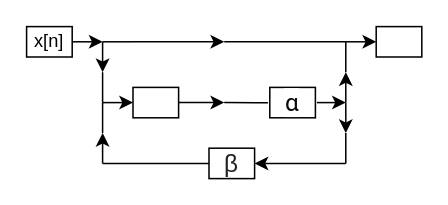
Some shapes in this 448 by 205 pixel diagram are drawn without their labels. The shapes that lost their labels are listed below. From the top down, each one's centre as x and y in pixels, then its label:
pixel 398 41: y[n]
pixel 155 102: z -N
